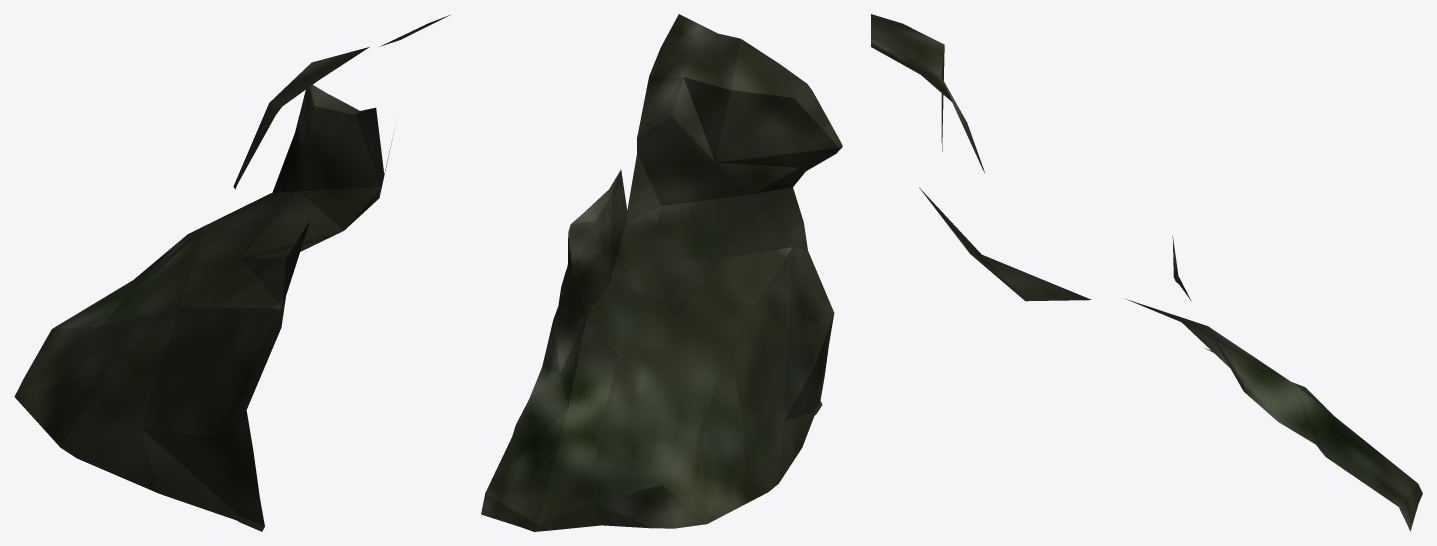
3 renders of one model, left to right at view 1: azimuth 30°, elevation 25°; view 2: azimuth 150°, elevation 25°; view 3: azimuth 270°, elevation 25°, orthographic. The views are drawn at different scales.
Bounding box in the file's own units: 0.342 × 0.6034 × 0.6224.
1 material, 1 textured.
